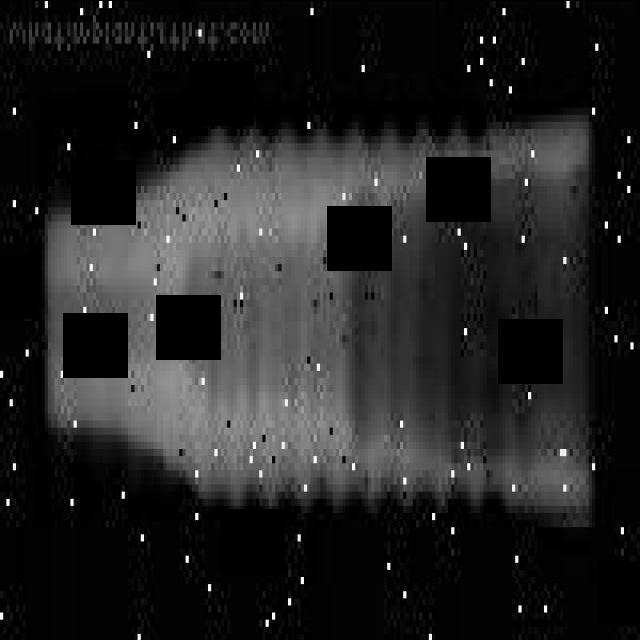Retained root: (38, 100, 592, 519)
